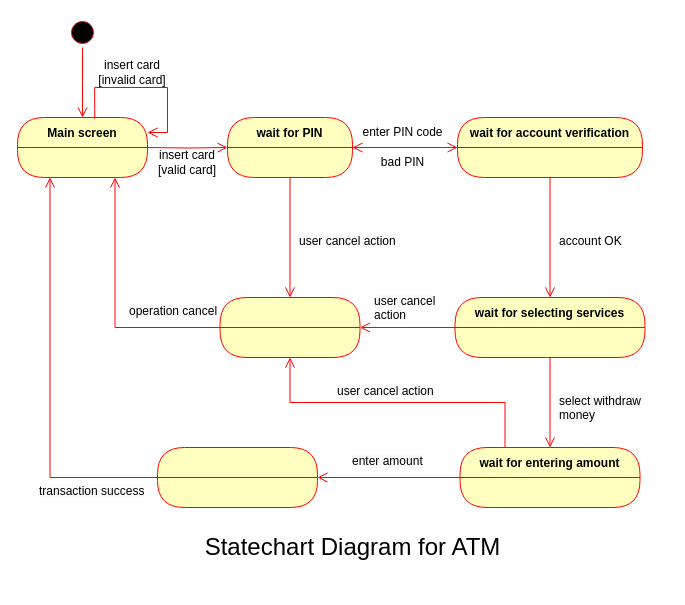
Some shapes in this 685 by 605 pixel diagram are drawn without their labels. The centre of each missing label's shape, as x and y in pixels:
"Cancel" belongs at (x=289, y=327).
"process transaction" belongs at (x=237, y=477).
